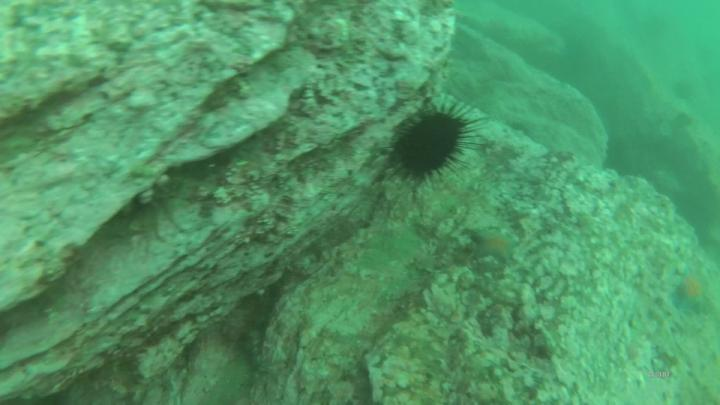echinus: (375, 92, 487, 191), (671, 76, 696, 101), (671, 110, 695, 134)
starfish: (468, 225, 523, 270), (673, 264, 714, 322)
